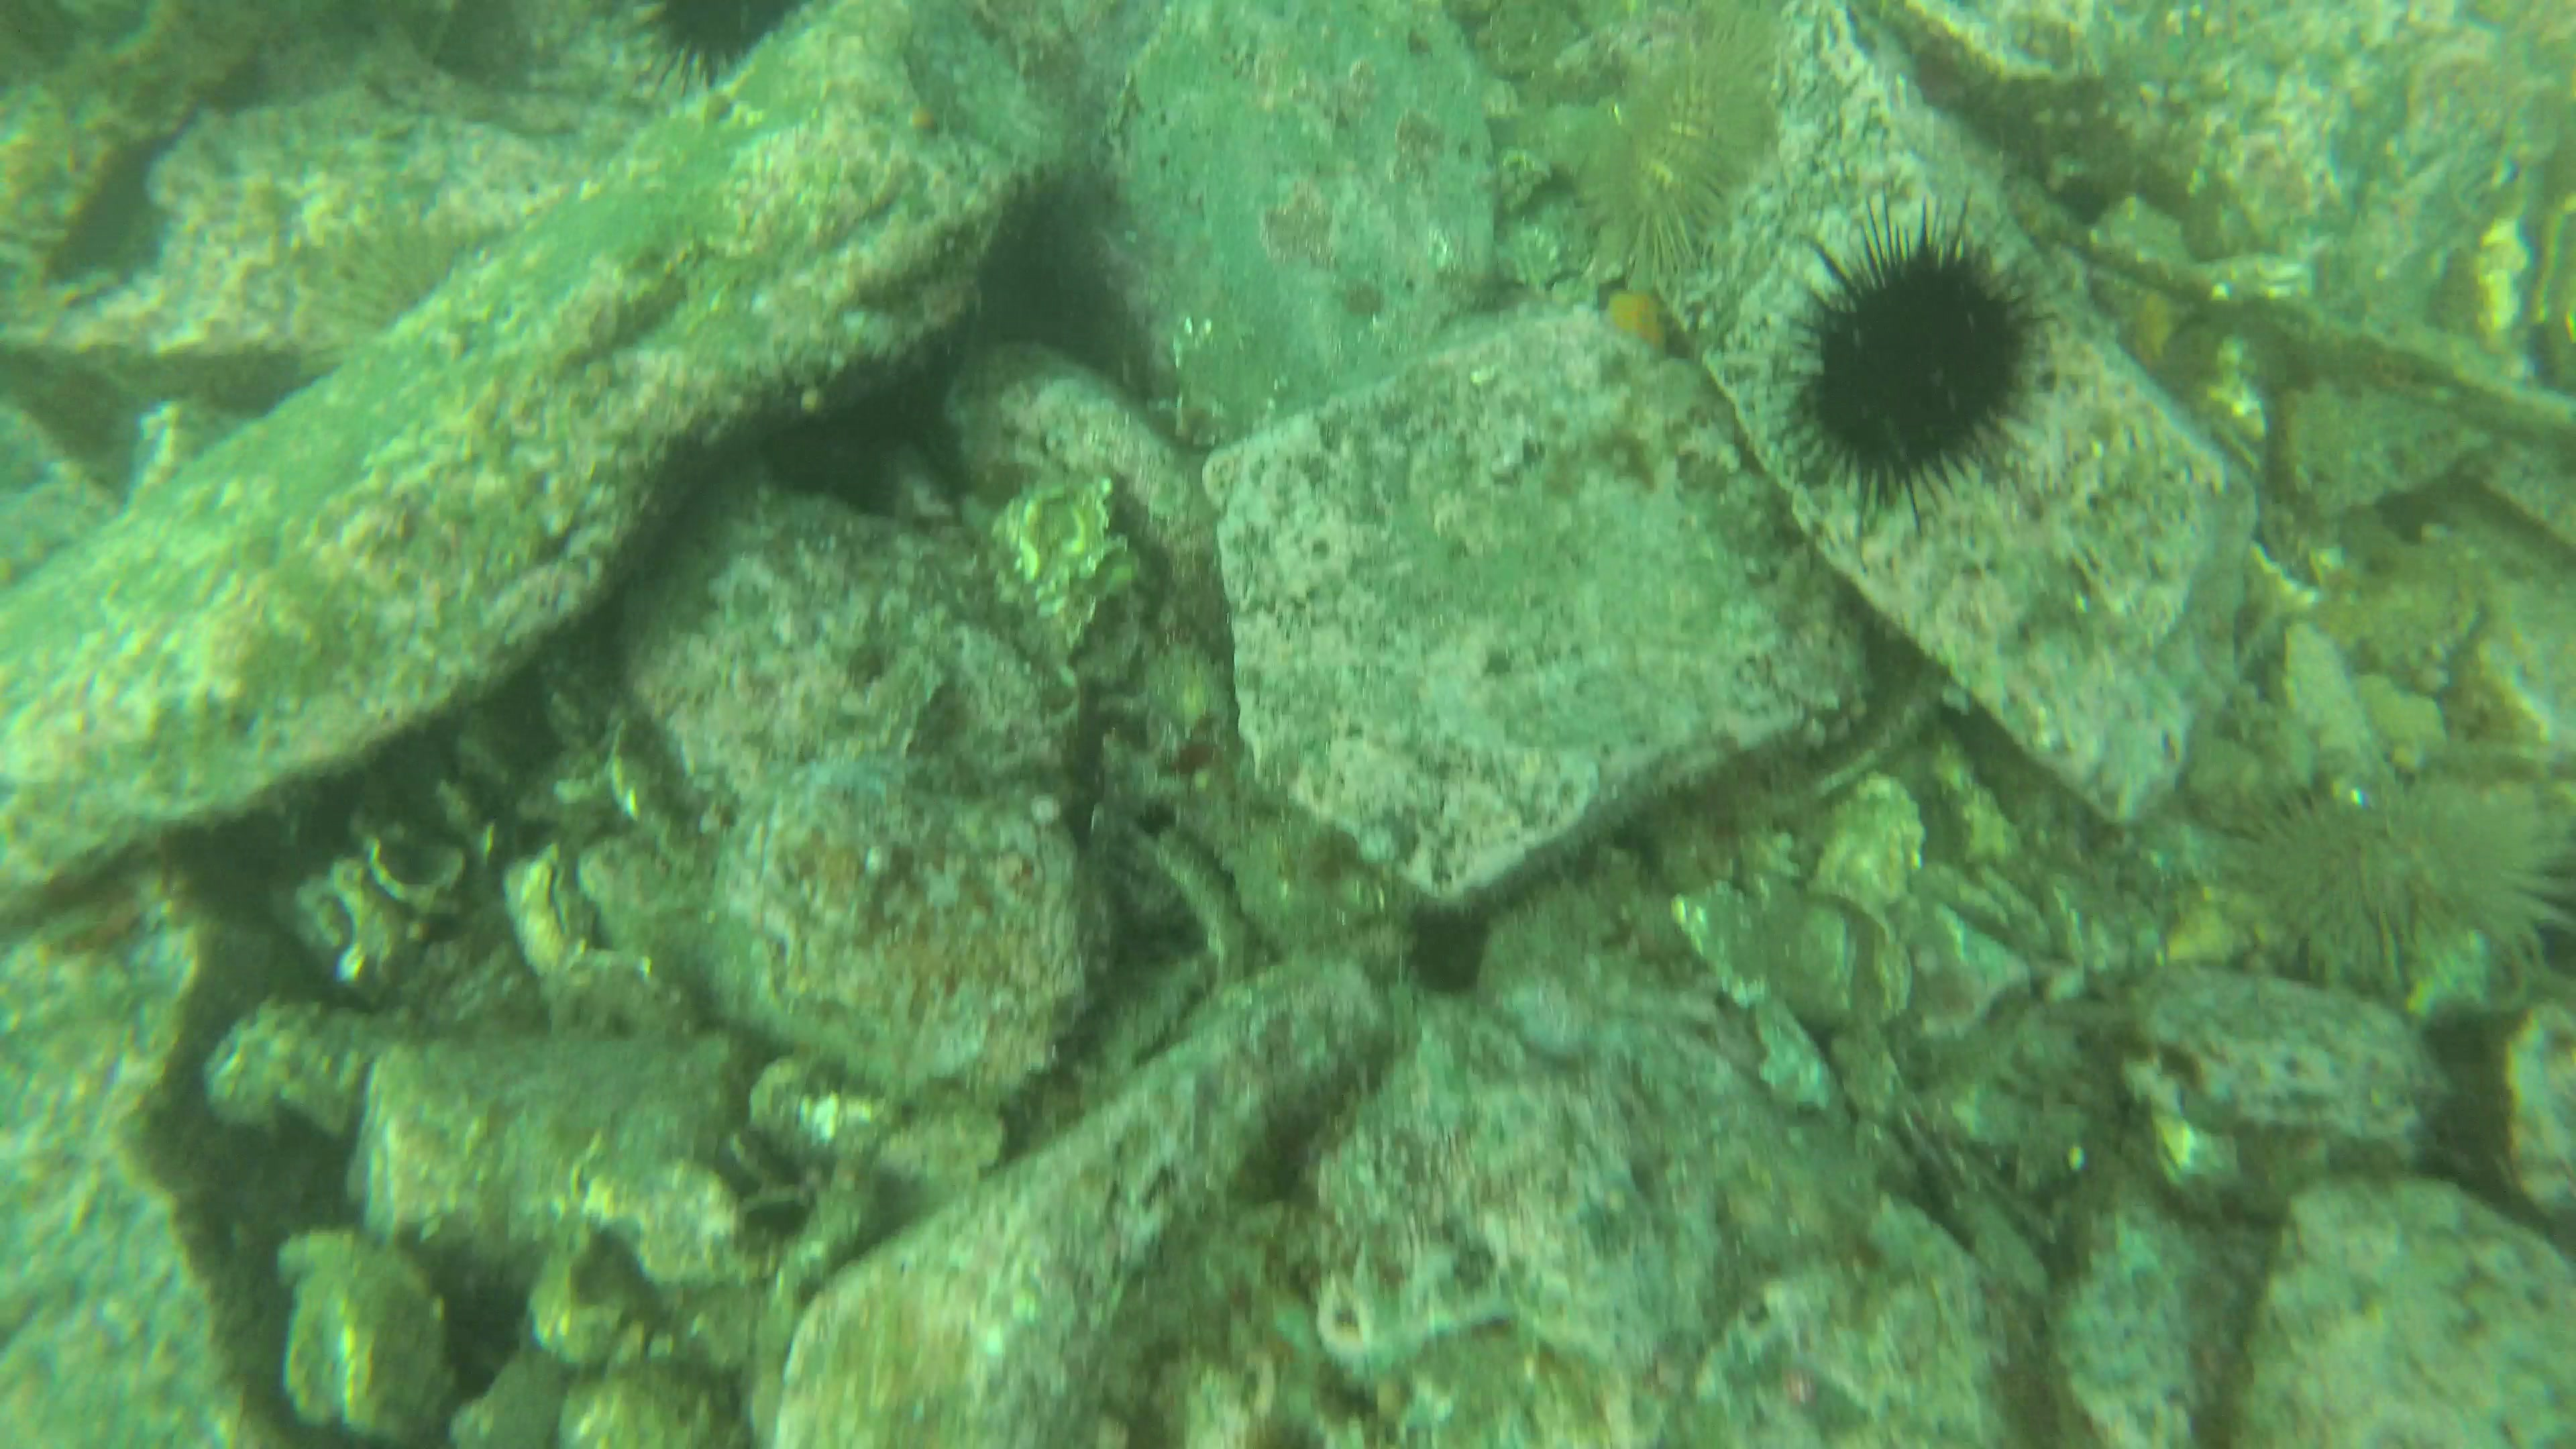echinus: (1769, 219, 2054, 520), (2229, 763, 2574, 1008), (1589, 14, 1796, 274), (294, 214, 510, 379), (619, 0, 817, 104)
